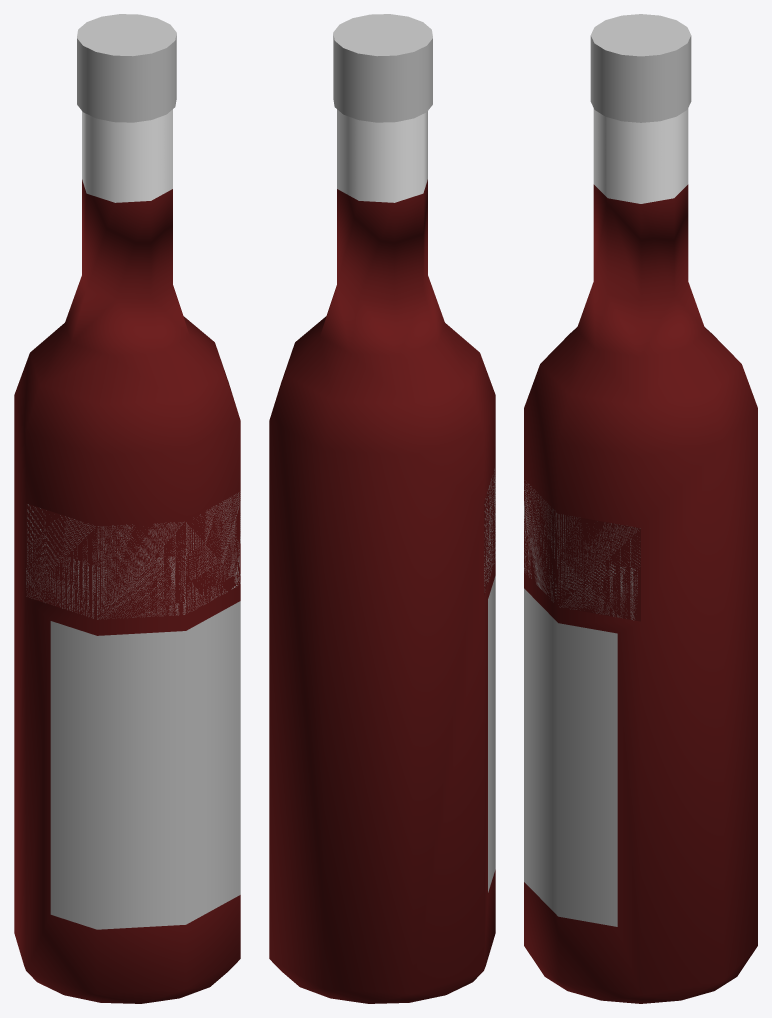
3 views of the same model, side by side, from view 1: azimuth 30°, elevation 25°; view 2: azimuth 150°, elevation 25°; view 3: azimuth 270°, elevation 25° (orthographic).
Visible parts, largest first — view 1: mesh1_mesh1-geometry, mesh2_mesh2-geometry; view 2: mesh1_mesh1-geometry, mesh2_mesh2-geometry; view 3: mesh1_mesh1-geometry, mesh2_mesh2-geometry.
Boxes of the visible parts, x1,y1,x2,y2 form: mesh1_mesh1-geometry: (14,109,240,1003); mesh2_mesh2-geometry: (77,14,176,122); mesh1_mesh1-geometry: (269,109,495,1003); mesh2_mesh2-geometry: (333,14,432,122); mesh1_mesh1-geometry: (524,108,757,1003); mesh2_mesh2-geometry: (590,14,691,122).
Bounding box in the file's own units: 0.2181 × 0.9512 × 0.2181.
